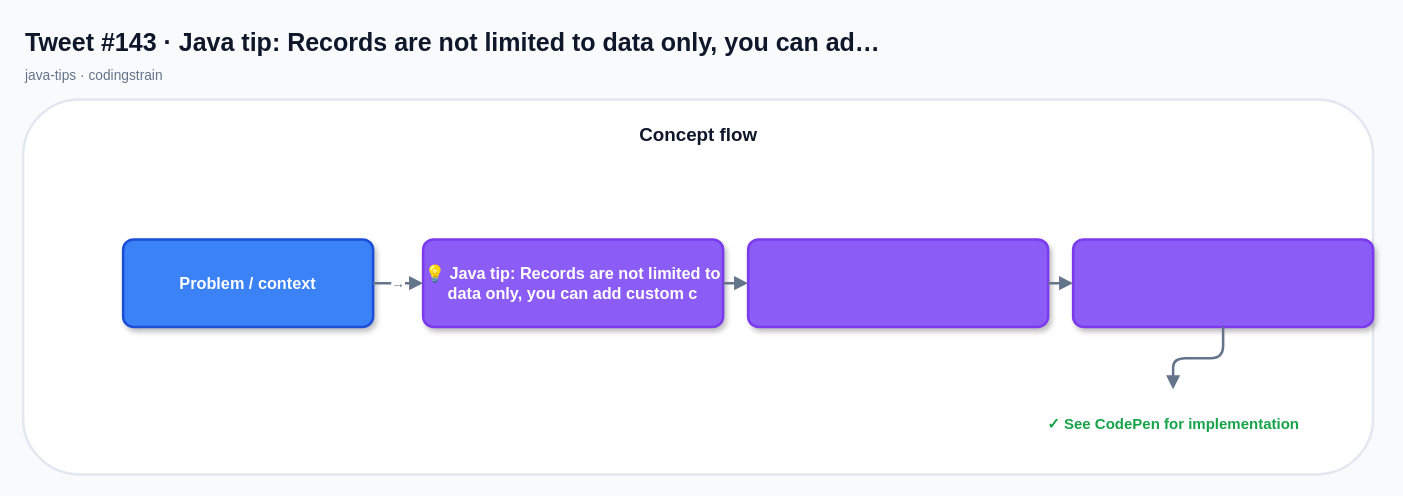
Image size: 1403x496. Some labels were removed from this diagram. Here are the shapes that lost their labels. From the top down, the centre of each, then its label:
At pixel 898 284: "They can have constructors, static methods, and instance methods:".
At pixel 1223 284: "#Java #ModernJava".
